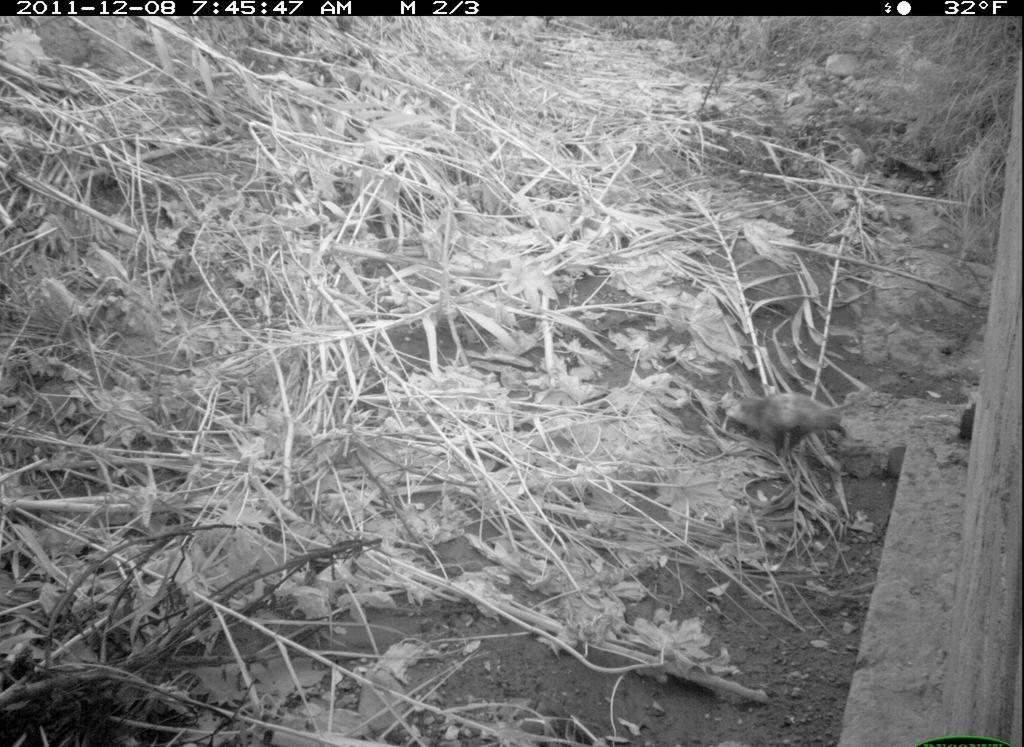opossum: (725, 371, 865, 458)
